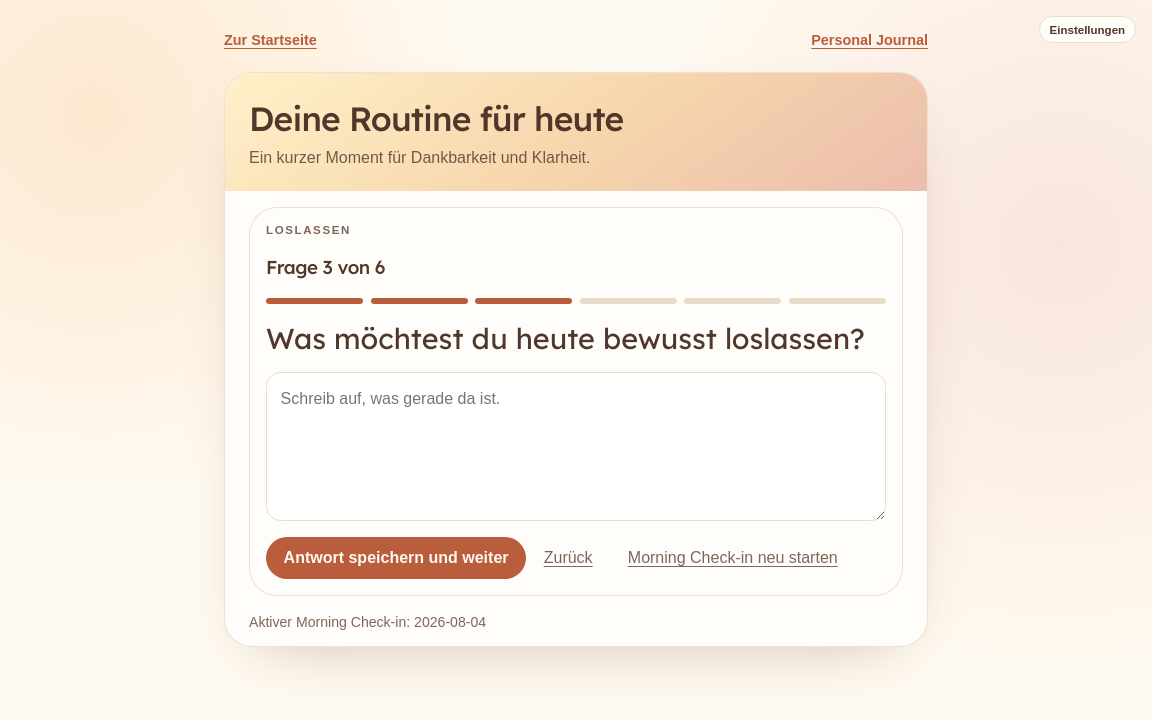
Test case: question cards show progress and preserve saved answers while navigating back
The width and height of the screenshot is (1152, 720).
expect the text "Loslassen" is shown: met, box [266,224,351,236]
Click the button "Zurück". click: (568, 558)
box: [526,537,610,579]
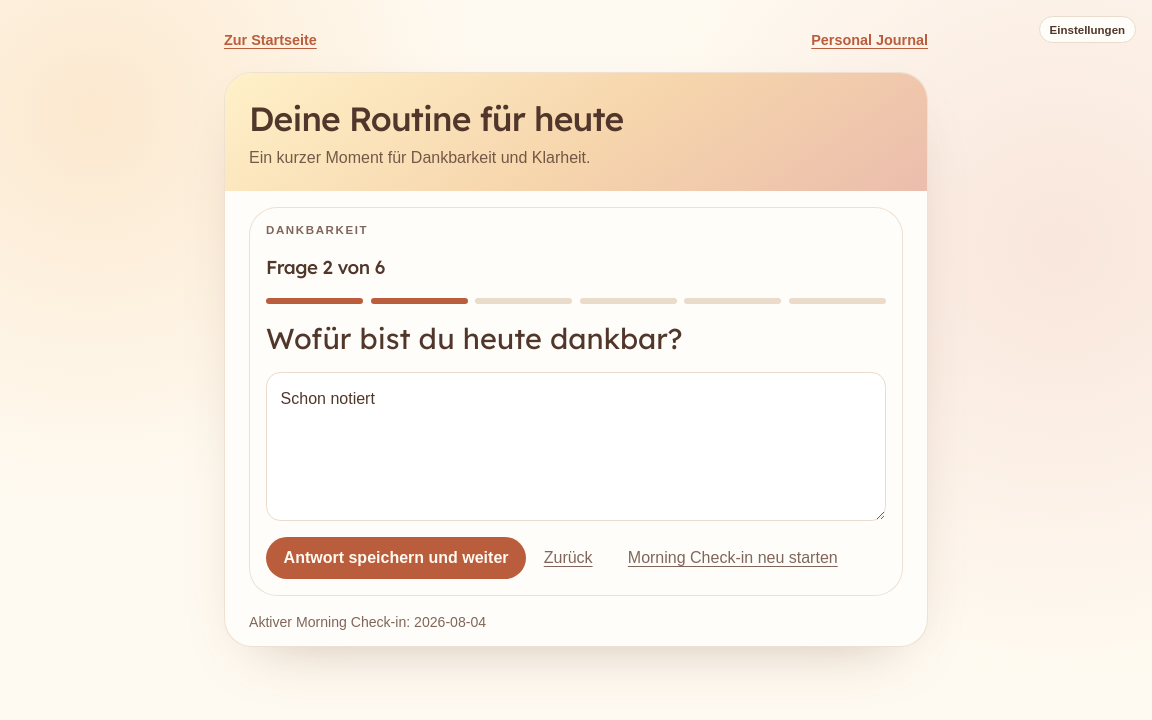
expect the heading "Frage 2 von 6" is shown: met, box [266,255,385,279]
expect the text box named "Freitext-Antwort" holds "Schon notiert": met, box [266,372,886,521]
Click the button "Antwort speichern und weiter". click: (396, 558)
box: [266,537,526,579]
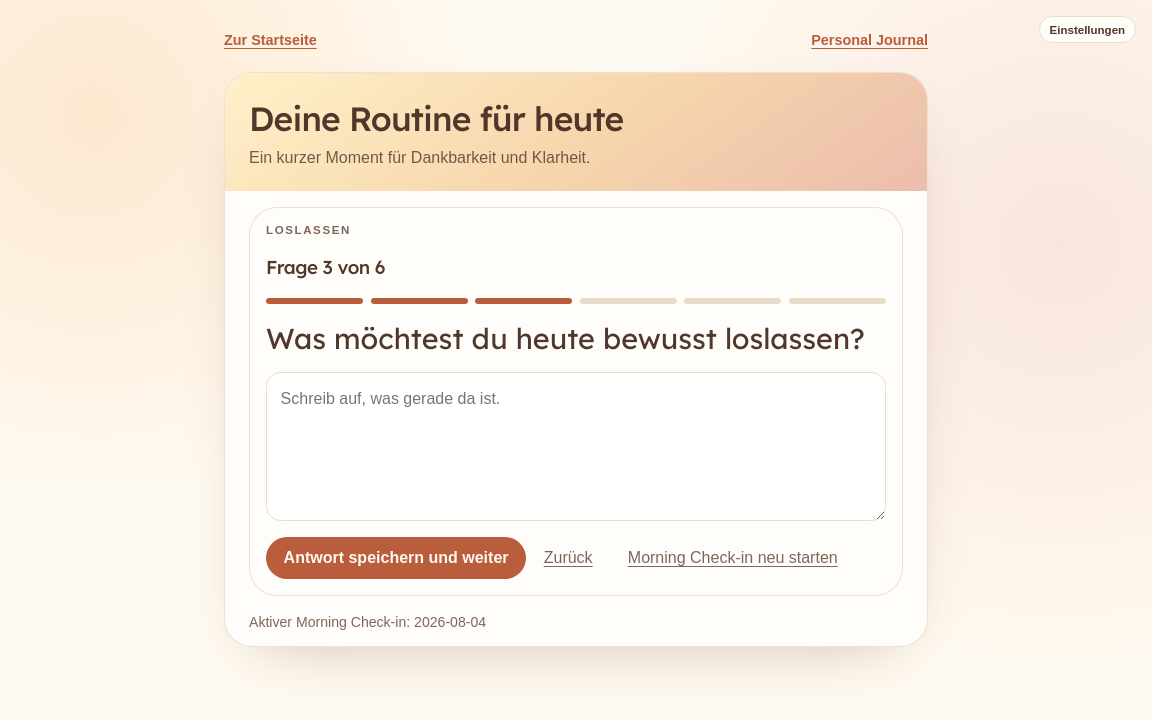
expect the heading "Frage 3 von 6" is shown: met, box [266,255,385,279]
